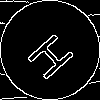H: (25, 25, 83, 82)
